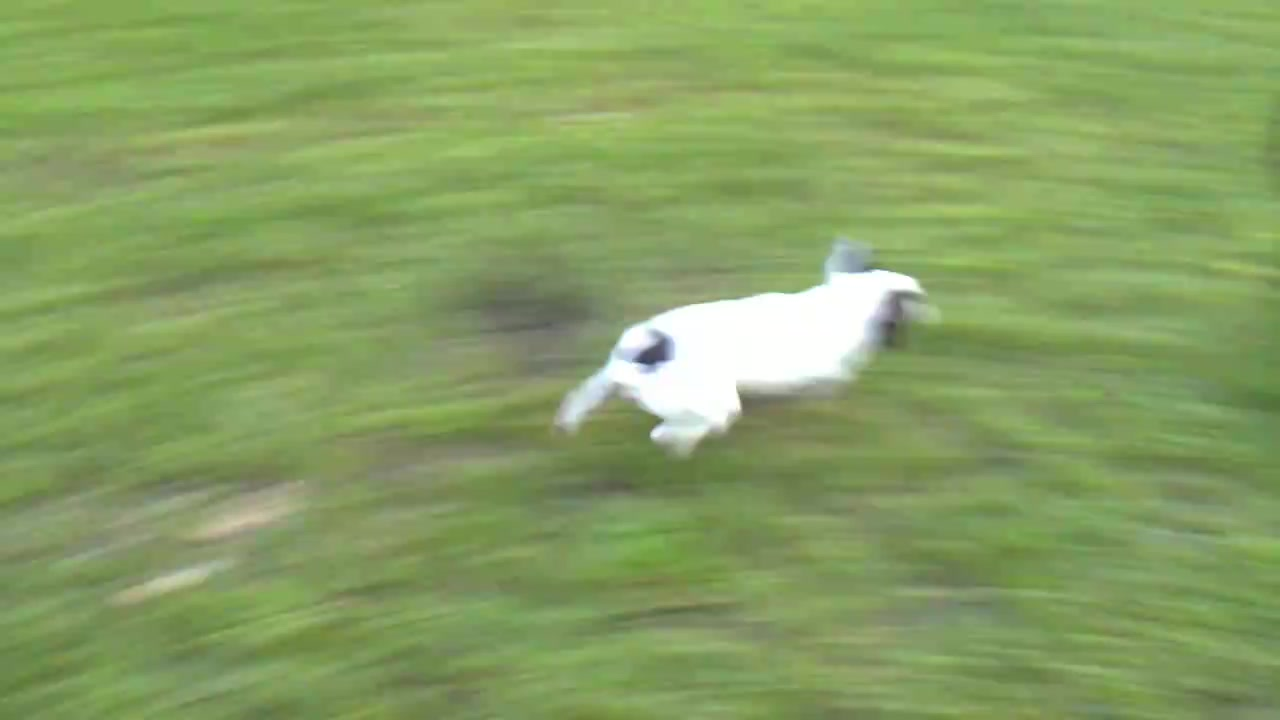dog: (553, 234, 938, 461)
